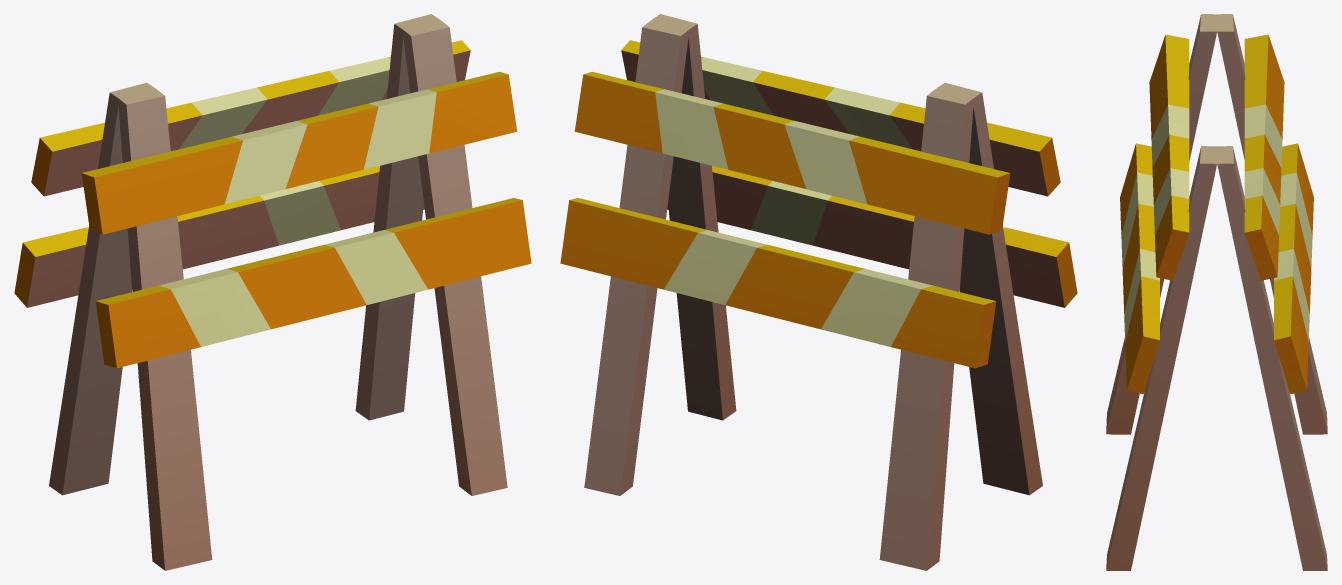
Rendered from Prop_woodbarrier_smalL.glb.
3 renders of one model, left to right at view 1: azimuth 30°, elevation 25°; view 2: azimuth 150°, elevation 25°; view 3: azimuth 270°, elevation 25°, orthographic. The views are drawn at different scales.
Visible parts, largest first — view 1: Prop_woodbarrier_small.001; view 2: Prop_woodbarrier_small.001; view 3: Prop_woodbarrier_small.001.
Part boxes in pixels (x1=…): Prop_woodbarrier_small.001: x1=14, y1=14, x2=531, y2=570; Prop_woodbarrier_small.001: x1=560, y1=14, x2=1077, y2=570; Prop_woodbarrier_small.001: x1=1106, y1=14, x2=1327, y2=570.
Bounding box in the file's own units: 0.3165 × 0.3078 × 0.153.
